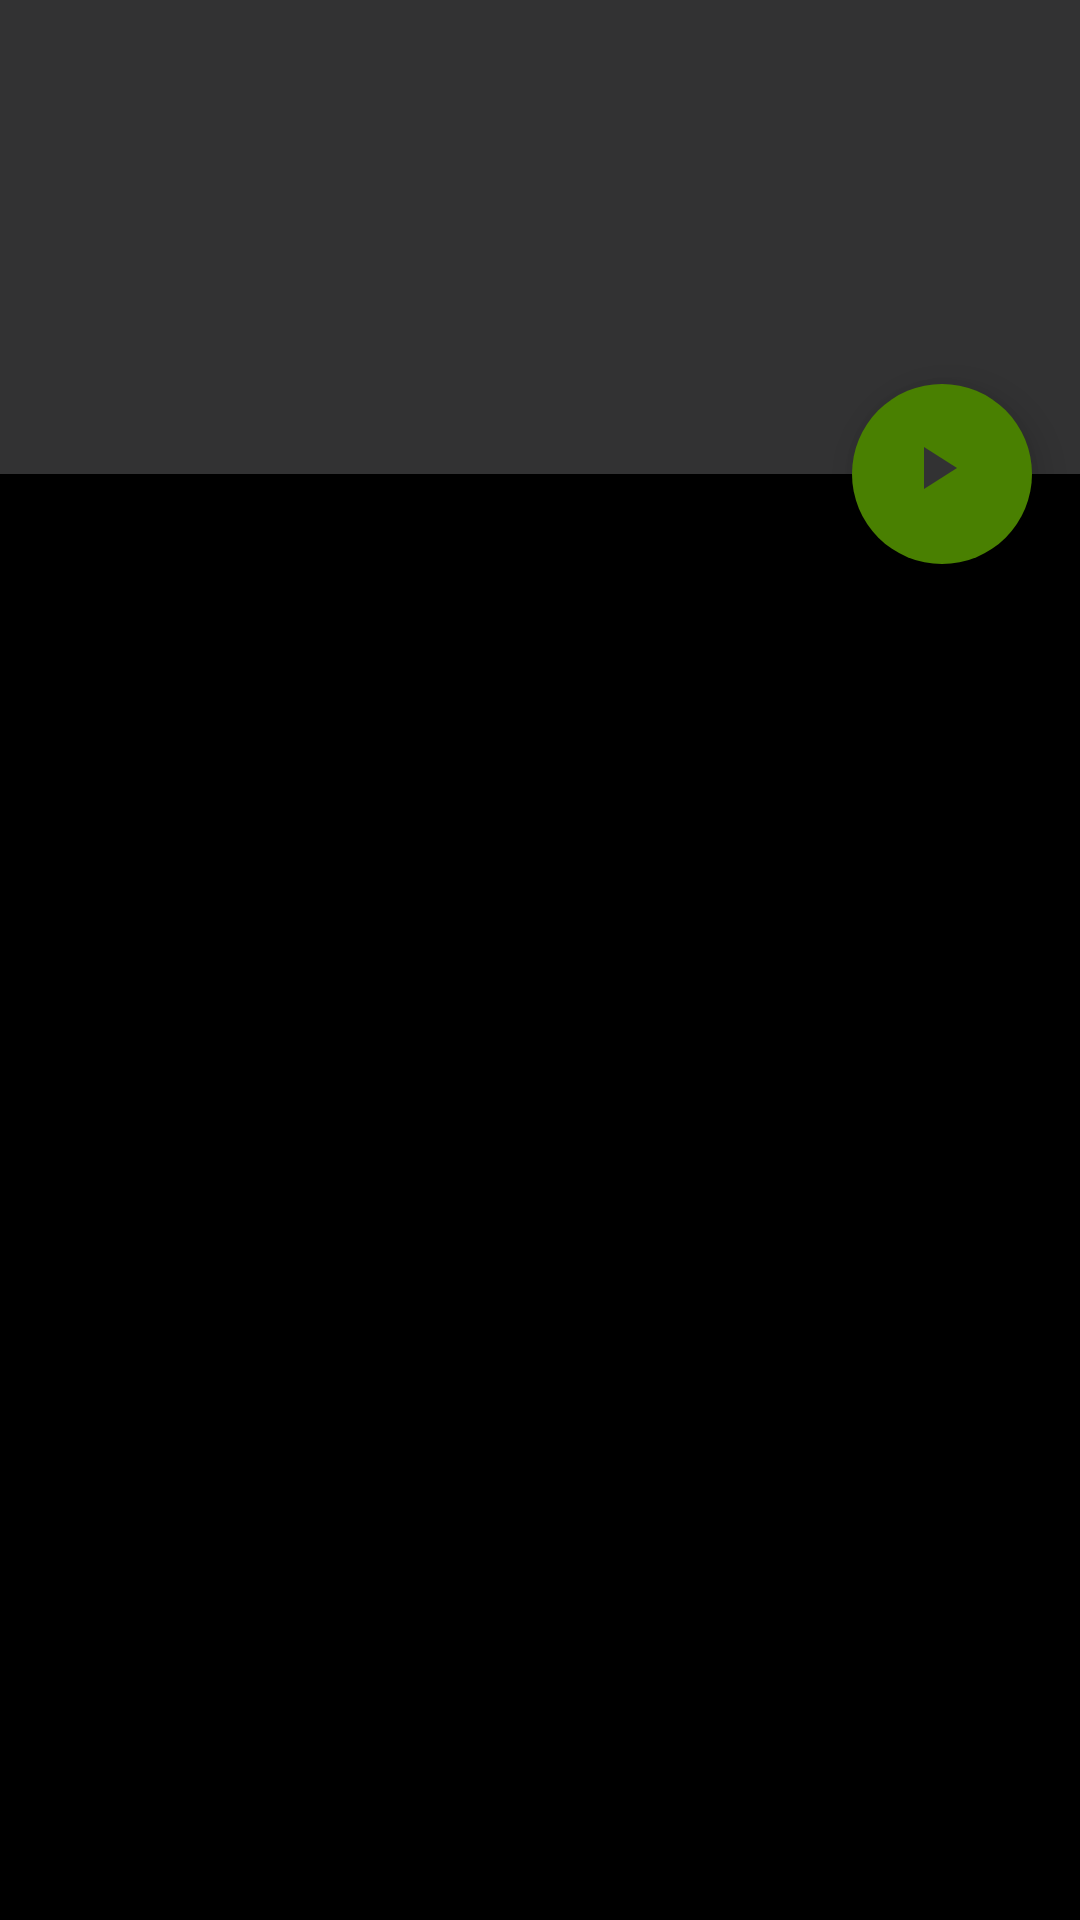

Where to tap for icons on this 1080w x 1920h app screen, as point (x, y):
play arrow: point (942, 474)
